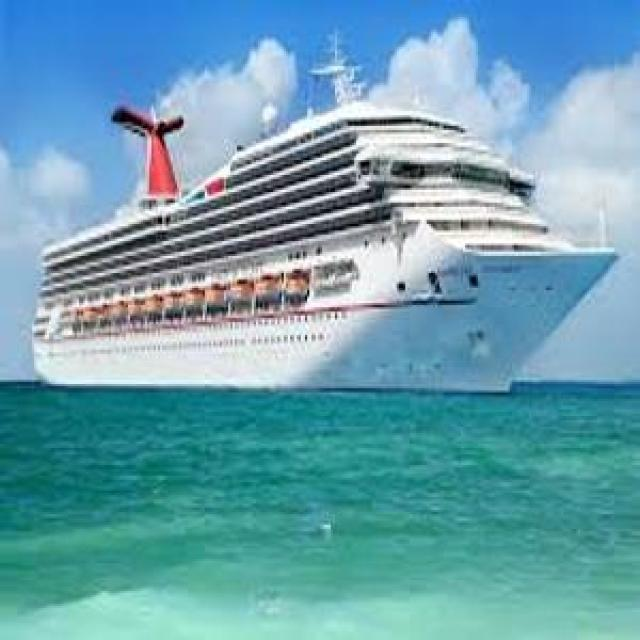passenger ship: (28, 32, 606, 401)
